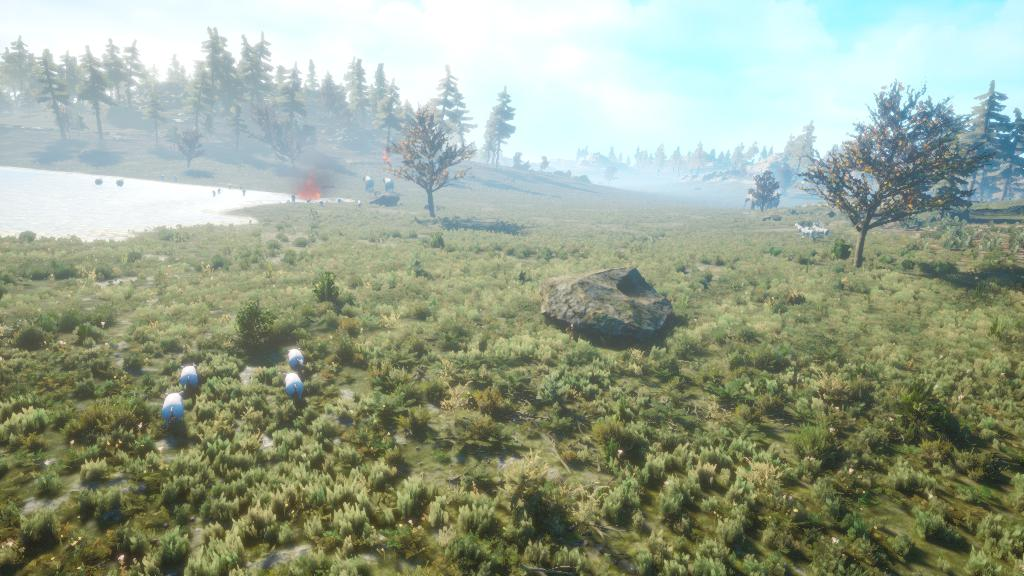Fire: (291, 174, 327, 208)
elephant: (381, 169, 398, 199), (362, 171, 375, 196)
pig: (154, 390, 195, 429), (275, 373, 313, 403), (174, 359, 205, 392), (284, 344, 316, 375)
smoke: (302, 150, 348, 196)
zebra: (812, 223, 831, 240), (799, 225, 816, 240), (794, 222, 810, 236)
